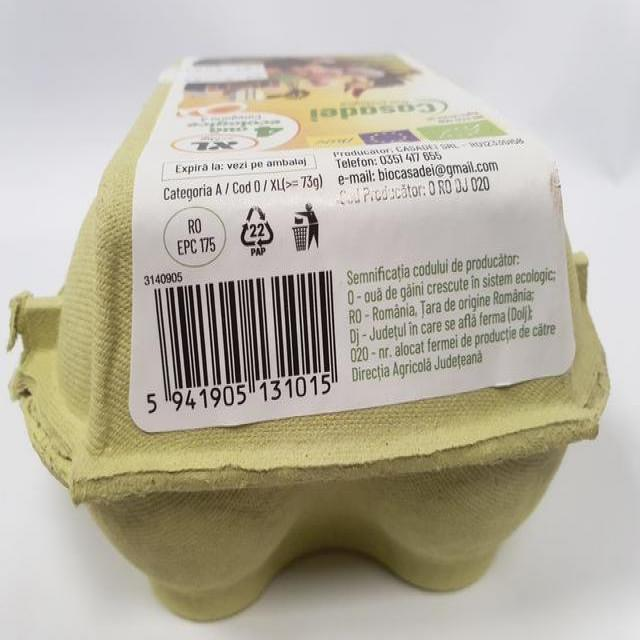eggs: (14, 55, 610, 622)
